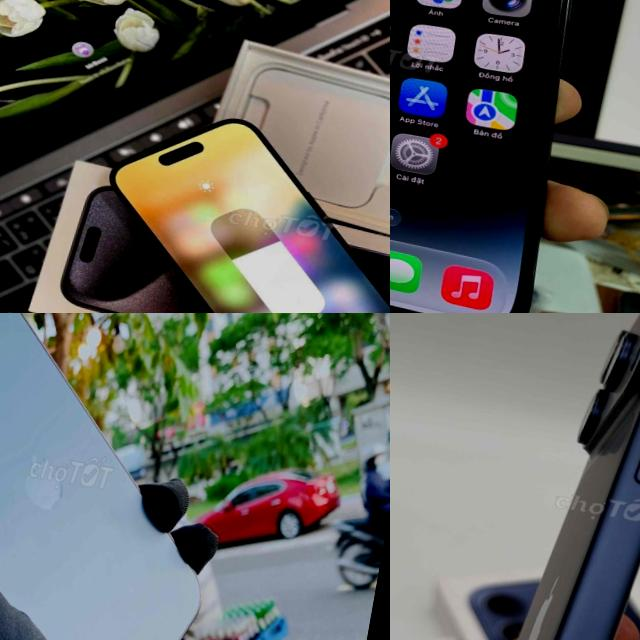gen_12_13: (0, 313, 250, 640), (71, 89, 390, 313)
gen_14: (390, 0, 620, 313)
gen_17: (448, 313, 640, 640)
